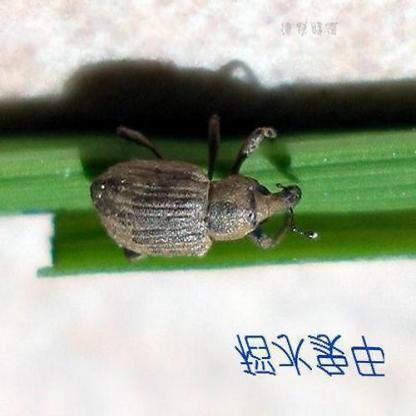rice-bug: (93, 121, 304, 267)
